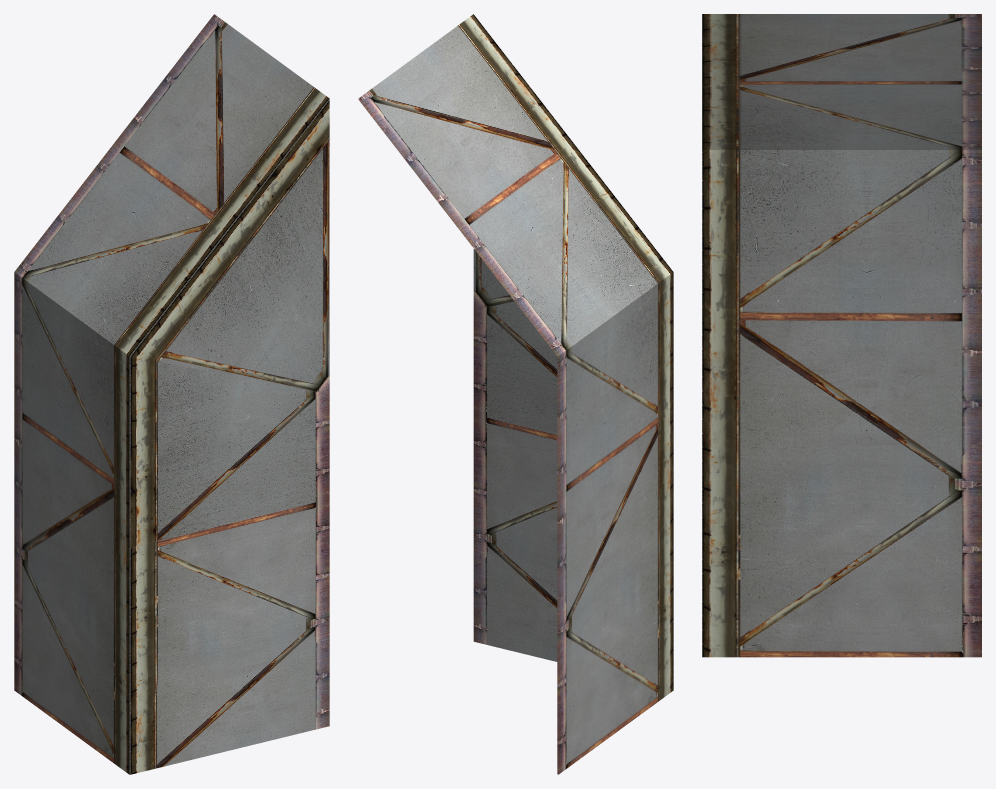
Rendered from Wall_Girders_Giant10mts_07.fbx.
The picture shows the model from 3 angles, left to right: view 1: azimuth 30°, elevation 25°; view 2: azimuth 150°, elevation 25°; view 3: azimuth 270°, elevation 25°; orthographic projection. The views are drawn at different scales.
Visible parts, largest first — view 1: Wall_Girders_Giant10mts_07; view 2: Wall_Girders_Giant10mts_07; view 3: Wall_Girders_Giant10mts_07.
Part boxes in pixels (x1,y1,x2,y2): Wall_Girders_Giant10mts_07: [14, 14, 329, 774]; Wall_Girders_Giant10mts_07: [358, 14, 673, 774]; Wall_Girders_Giant10mts_07: [702, 14, 981, 657].
Bounding box in the file's own units: 500 × 1500 × 500.
